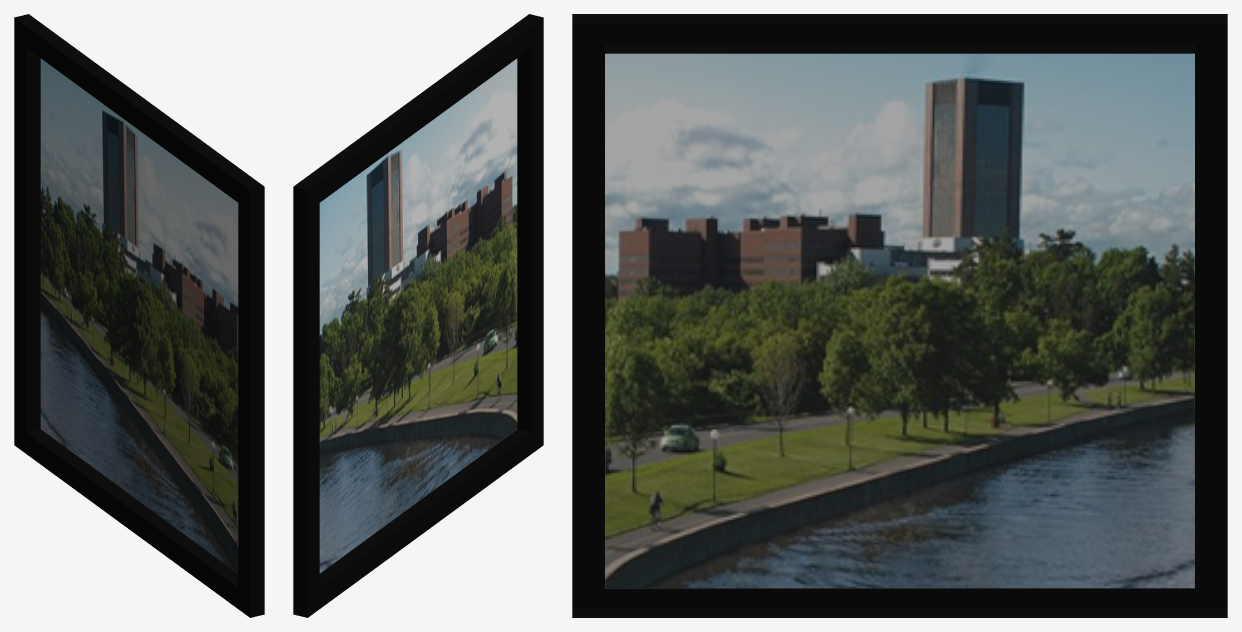
The model's file is Picture4.glb.
3 views of the same model, side by side, from view 1: azimuth 30°, elevation 25°; view 2: azimuth 150°, elevation 25°; view 3: azimuth 270°, elevation 25° (orthographic). The views are drawn at different scales.
Visible parts, largest first — view 1: Picture4; view 2: Picture4; view 3: Picture4.
Part boxes in pixels (x1=…): Picture4: x1=14, y1=14, x2=264, y2=617; Picture4: x1=293, y1=14, x2=543, y2=617; Picture4: x1=572, y1=14, x2=1227, y2=617.
Bounding box in the file's own units: 0.1 × 2.83 × 2.83.
Materials: 2 (2 with a texture image).
